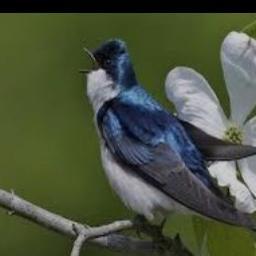Swallow: (78, 38, 256, 237)
